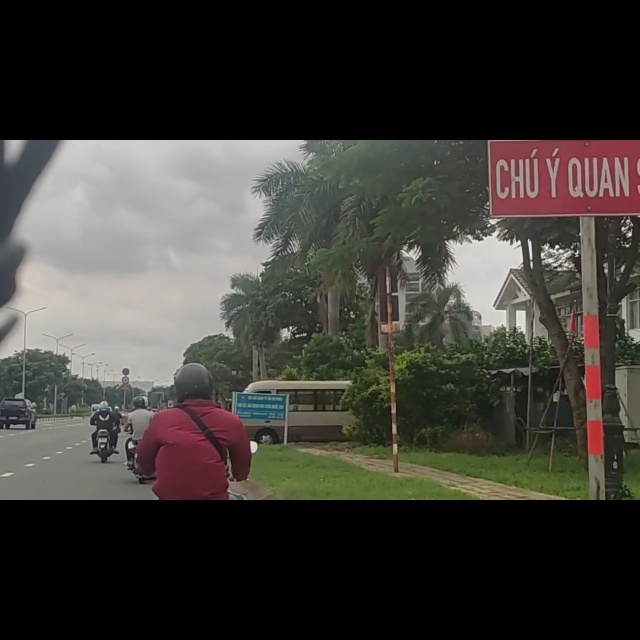bien_cam: (122, 405, 131, 420), (59, 446, 66, 456), (60, 455, 66, 466)
